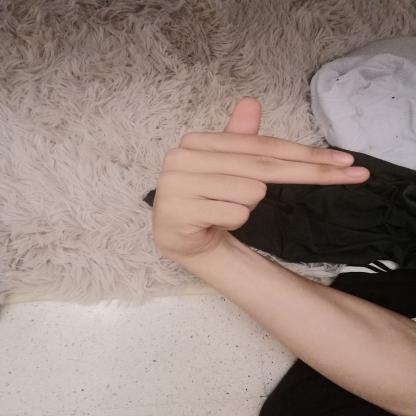GHAYN: (132, 87, 382, 261)
